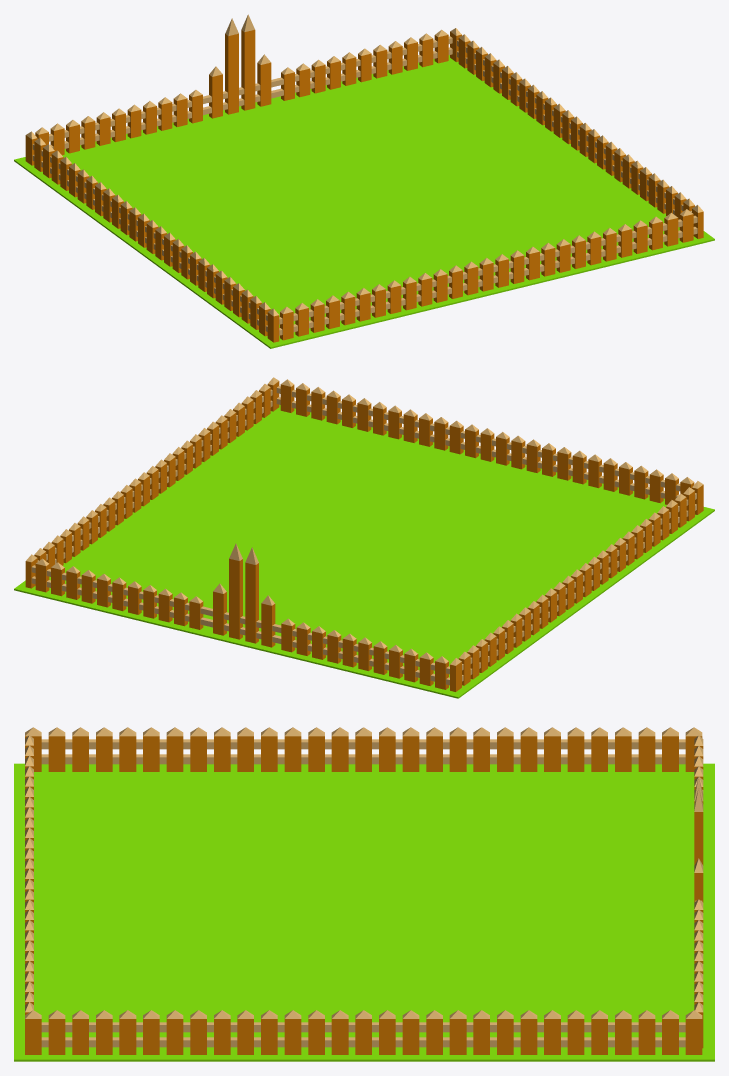
3 renders of one model, top to bottom at view 1: azimuth 30°, elevation 25°; view 2: azimuth 150°, elevation 25°; view 3: azimuth 270°, elevation 25°, orthographic. The views are drawn at different scales.
Visible parts, largest first — view 1: Cube, Zabor.002, Zabor.001, Zabor, Zabor.003, zabor, Cube.100, Cube.099, Cube.061, Cube.060, Cube.101, Cube.098; view 2: Cube, Zabor.002, Zabor.001, Zabor, zabor, Zabor.003, Cube.099, Cube.100, Cube.061, Cube.060, Cube.098, Cube.101; view 3: Cube, Zabor, Zabor.001, Zabor.002, Cube.002, Cube.003, Cube.056, Cube.057, Zabor.003, Cube.100.
Boxes of the visible parts, x1,y1,x2,y2 form: Cube: (14,55,714,348); Zabor.002: (280,209,693,340); Zabor.001: (25,131,279,342); Zabor: (450,28,703,238); Zabor.003: (281,29,448,100); zabor: (35,90,202,155); Cube.100: (241,14,255,110); Cube.099: (225,18,238,114); Cube.061: (279,215,697,324); Cube.060: (279,226,697,335); Cube.101: (257,54,271,106); Cube.098: (209,66,222,118); Cube: (14,404,714,698); Zabor.002: (280,379,694,504); Zabor.001: (450,481,703,691); Zabor: (25,377,279,588); zabor: (281,618,448,689); Zabor.003: (35,558,203,629); Cube.099: (245,547,258,643); Cube.100: (229,543,242,639); Cube.061: (276,386,680,491); Cube.060: (276,397,678,498); Cube.098: (261,595,275,647); Cube.101: (213,583,226,635); Cube: (14,763,714,1061); Zabor: (25,1010,702,1054); Zabor.001: (25,727,702,771); Zabor.002: (25,735,33,1014); Cube.002: (41,754,685,764); Cube.003: (41,739,685,749); Cube.056: (41,1022,685,1032); Cube.057: (41,1037,685,1047); Zabor.003: (694,899,703,1048); Cube.100: (694,787,703,865).
Bounding box in the file's own units: 62 × 12.77 × 62.
